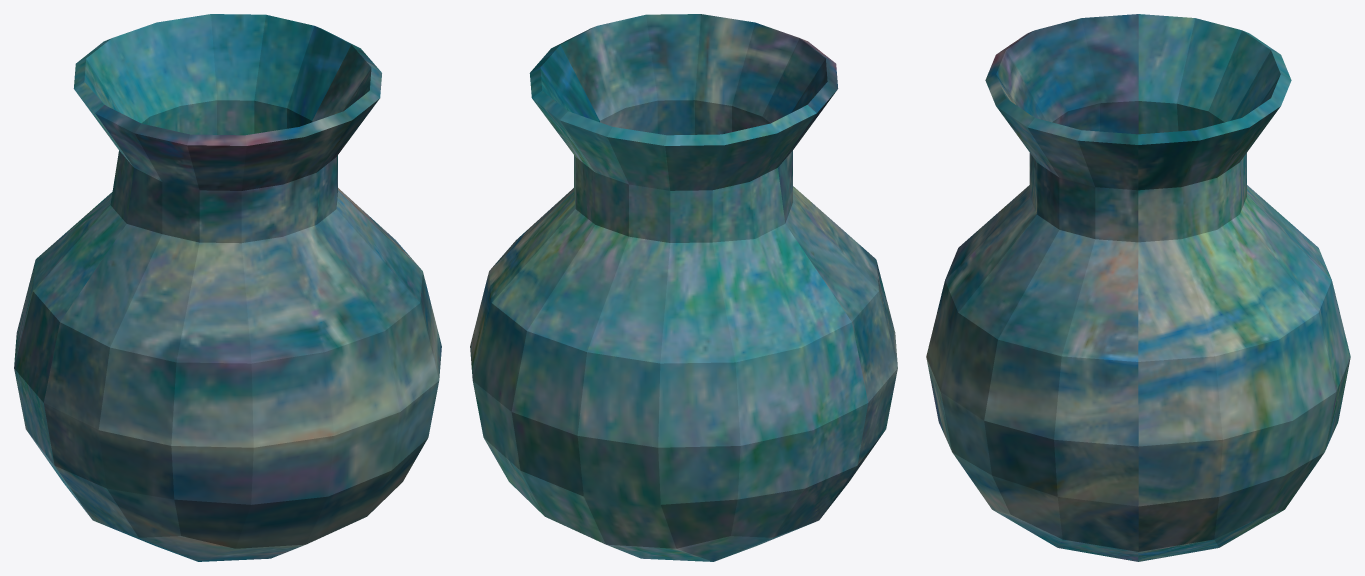
The model's file is Vase.fbx.
3 renders of one model, left to right at view 1: azimuth 30°, elevation 25°; view 2: azimuth 150°, elevation 25°; view 3: azimuth 270°, elevation 25°, orthographic.
Visible parts, largest first — view 1: Vase; view 2: Vase; view 3: Vase.
Part boxes in pixels (<box>): Vase: <box>14,14,441,561</box>; Vase: <box>470,14,897,561</box>; Vase: <box>926,14,1350,561</box>.
Size of the model in its own units: 129 by 156 by 129.
1 material, 1 textured.
